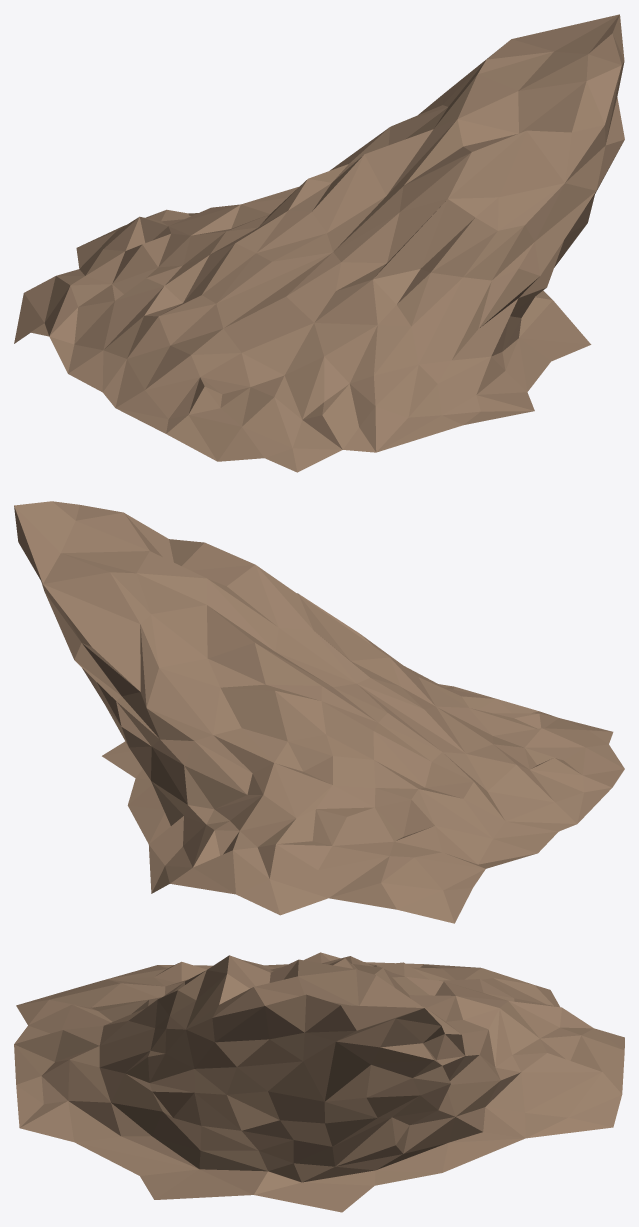
The model's file is Mountain_06.fbx.
3 views of the same model, one above another, from view 1: azimuth 30°, elevation 25°; view 2: azimuth 150°, elevation 25°; view 3: azimuth 270°, elevation 25° (orthographic). The views are drawn at different scales.
Visible parts, largest first — view 1: Mountain_06; view 2: Mountain_06; view 3: Mountain_06.
Part boxes in pixels (x1,y1,x2,y2): Mountain_06: (14, 14, 624, 472); Mountain_06: (14, 501, 624, 923); Mountain_06: (14, 952, 624, 1212).
Bounding box in the file's own units: 5970 × 2629 × 5369.
